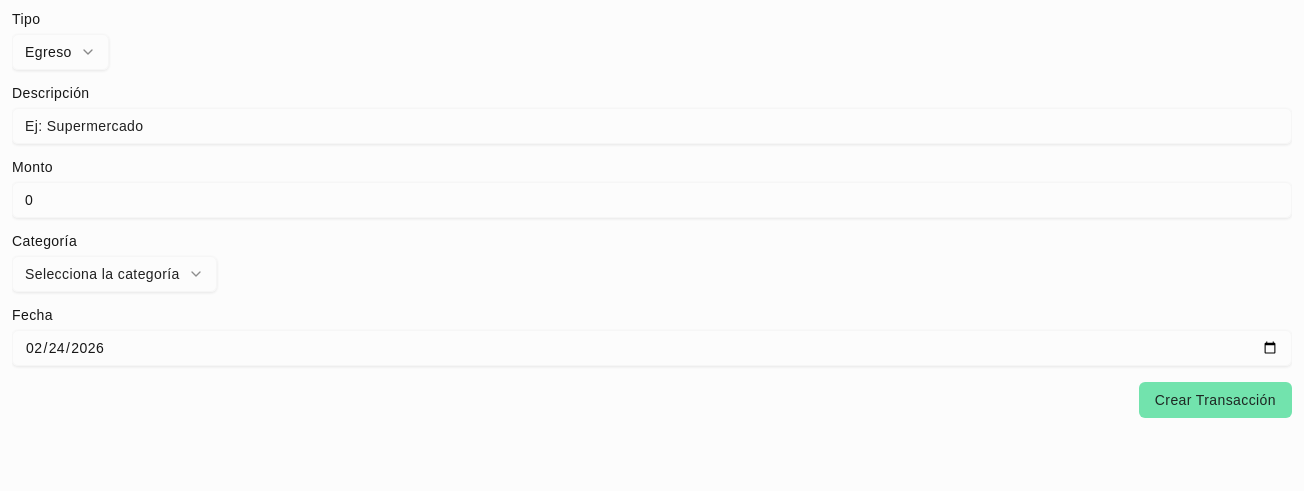
Test: TransactionForm › Validación de formulario › debe mostrar error cuando el monto es 0 o negativo
Type "Test" into the field with placeholder "Ej: Supermercado". click: point(652, 126)
box: top-left (12, 108), bottom-right (1292, 144)
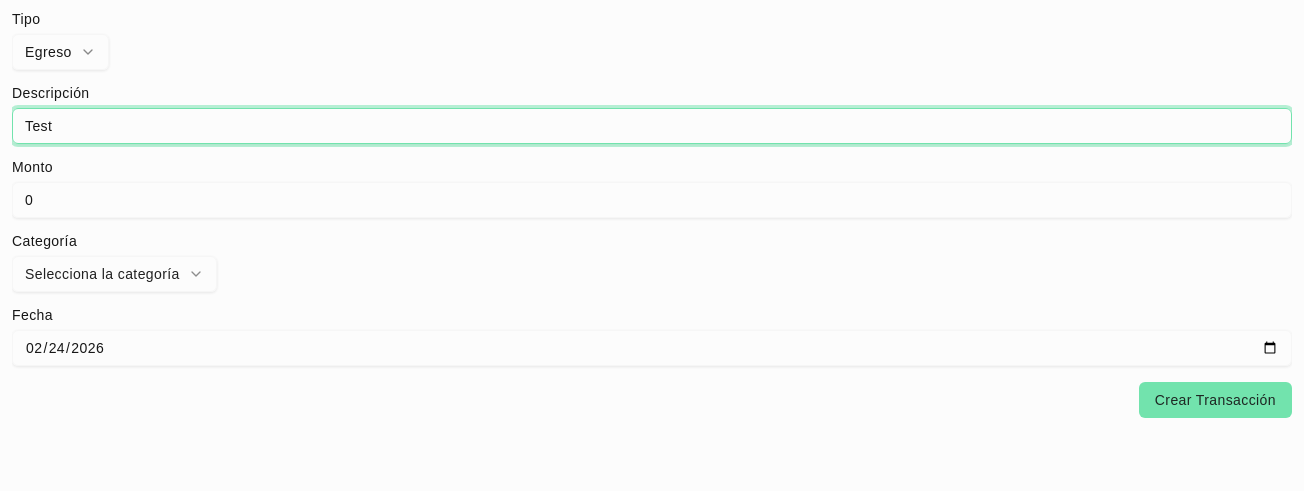
Click the button "Crear Transacción". click: point(1215, 400)
box: top-left (1139, 382), bottom-right (1292, 418)
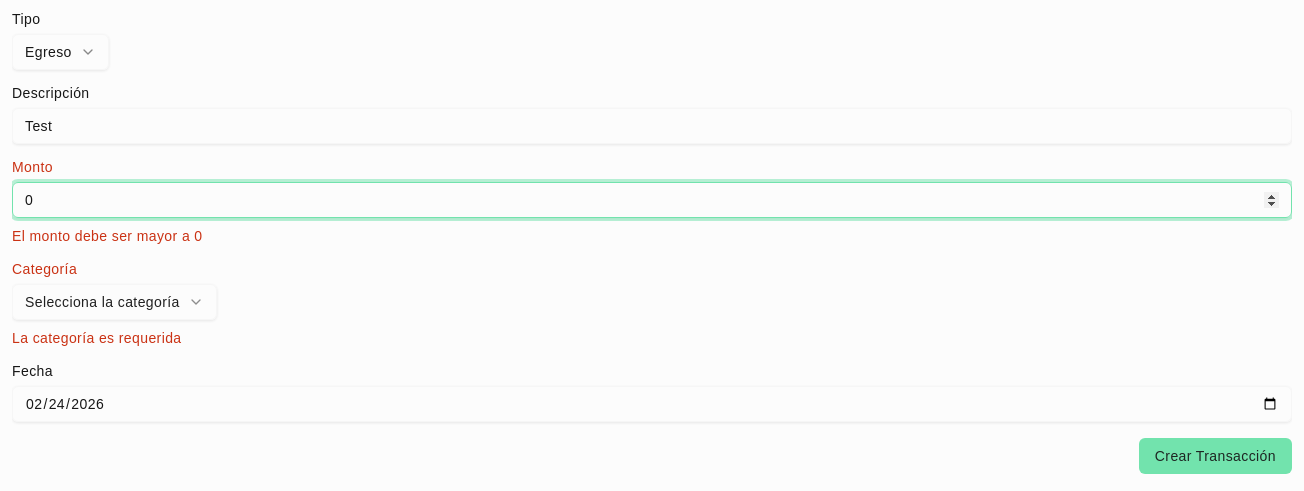
Expected: the text "El monto debe ser mayor a 0" is shown, top-left (12, 228), bottom-right (203, 244)
